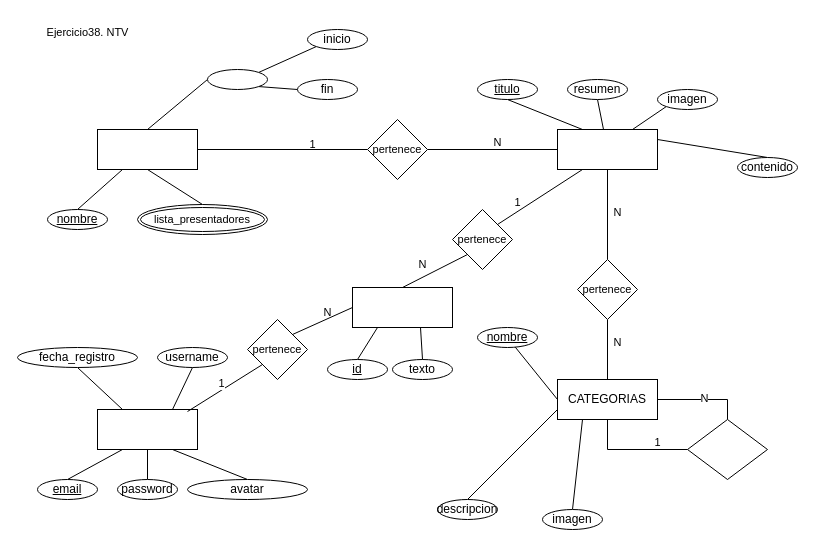
Some shapes in this 815 by 547 pixel diagram are drawn without their labels. Here are the shapes that lost their labels. From the top down, the centre of each, then its label:
pixel 237 79: hora
pixel 147 149: PROGRAMAS
pixel 607 149: NOTICIAS
pixel 402 307: COMENTARIO
pixel 147 429: USUARIOS
pixel 727 449: subcategoria
